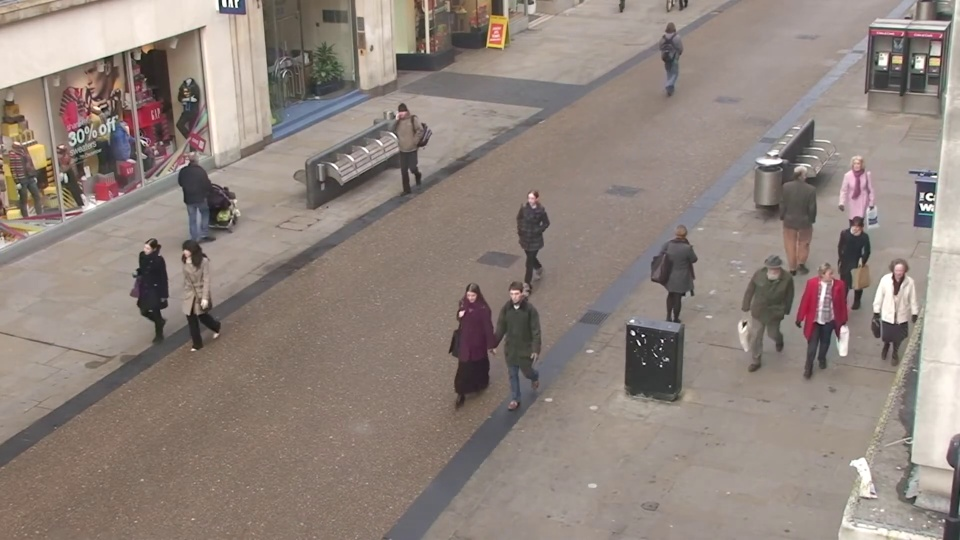pedestrian: (864, 258, 919, 393), (792, 262, 843, 397), (122, 236, 175, 361), (162, 238, 213, 364), (444, 279, 490, 418), (743, 256, 790, 390), (490, 279, 535, 418), (823, 214, 871, 337), (661, 216, 702, 339), (833, 156, 876, 264), (509, 186, 547, 302), (781, 159, 821, 267), (184, 145, 224, 246), (383, 104, 416, 196), (660, 17, 684, 87)
